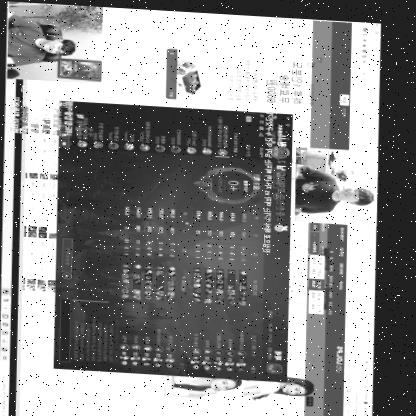donation: (252, 107, 379, 254)
streamer: (7, 10, 78, 68)
